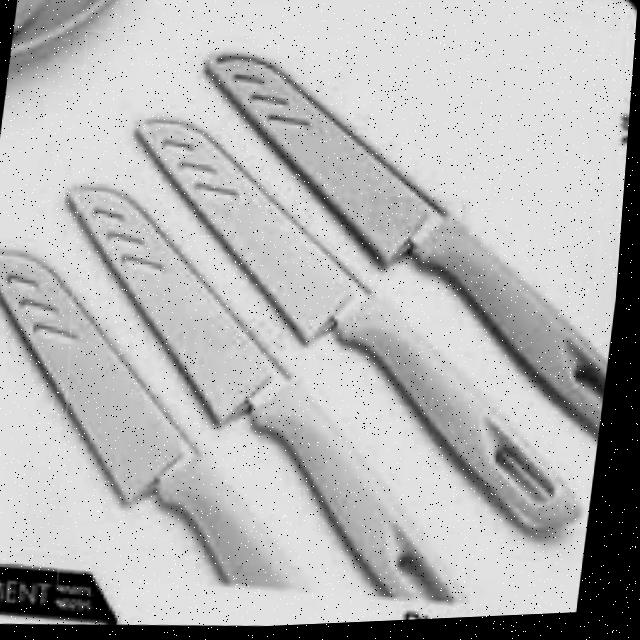knife: (92, 104, 633, 560), (20, 167, 524, 623), (160, 40, 636, 474), (0, 235, 357, 639)
